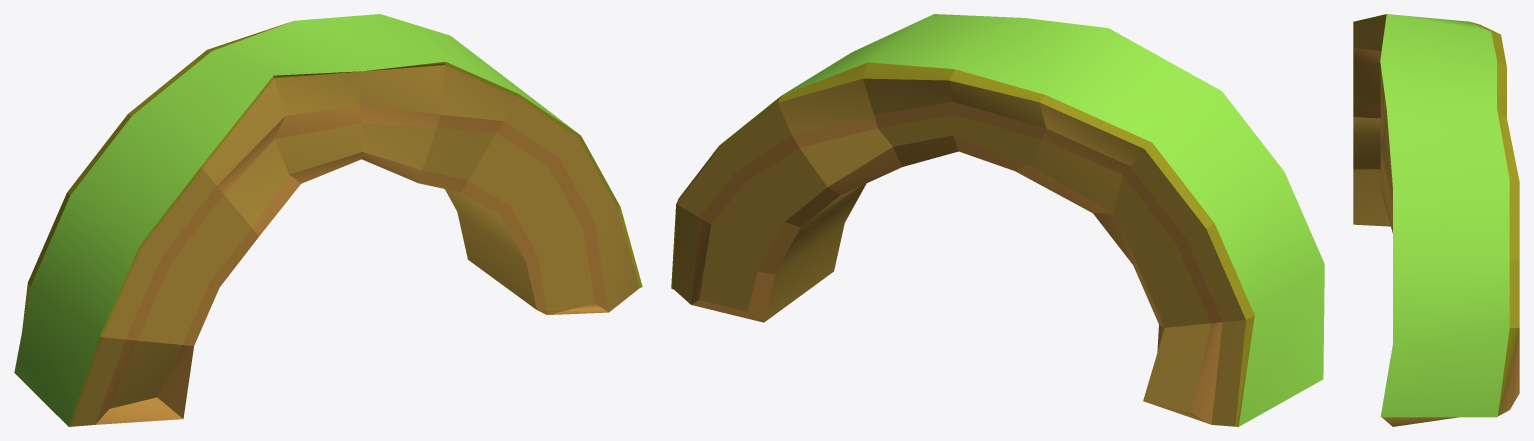
The model's file is canyon-arch.obj.
3 views of the same model, side by side, from view 1: azimuth 30°, elevation 25°; view 2: azimuth 150°, elevation 25°; view 3: azimuth 270°, elevation 25° (orthographic). The views are drawn at different scales.
Parts seen in each view (by area): view 1: canyon-arch; view 2: canyon-arch; view 3: canyon-arch.
Boxes of the visible parts, <box> form: canyon-arch: <box>14,14,642,426</box>; canyon-arch: <box>671,14,1324,426</box>; canyon-arch: <box>1353,14,1519,426</box>.
Bounding box in the file's own units: 48.01 × 25.76 × 14.21.
